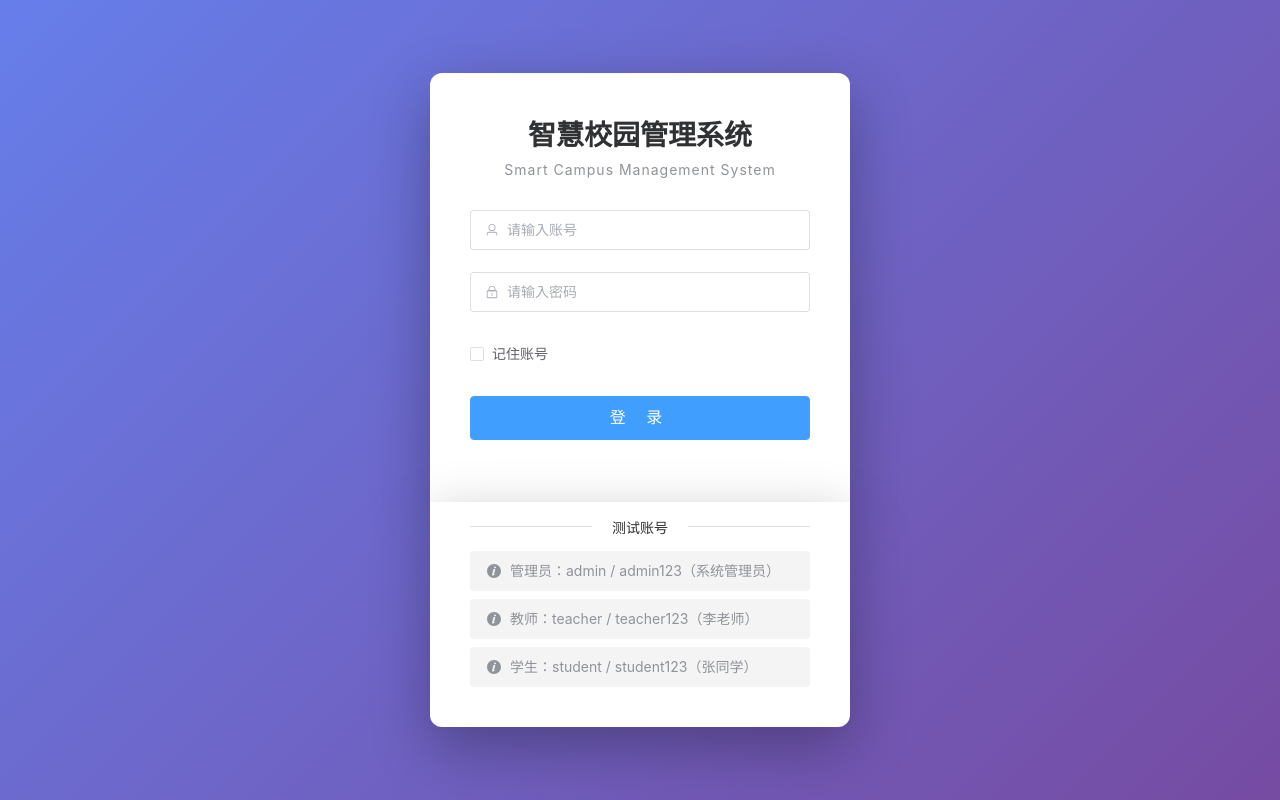
Test: Login.vue - 测试账号一键填入回归测试 › 先触发必填错误后点击测试账号：清除校验提示 + 可直接回车登录 › 先触发必填校验失败 -> 点击测试账号填入 -> 校验通过 + 直接回车登录成功
Click the button with class "login-btn": x=640, y=418 [470,396,810,440]
Wait 100 ms
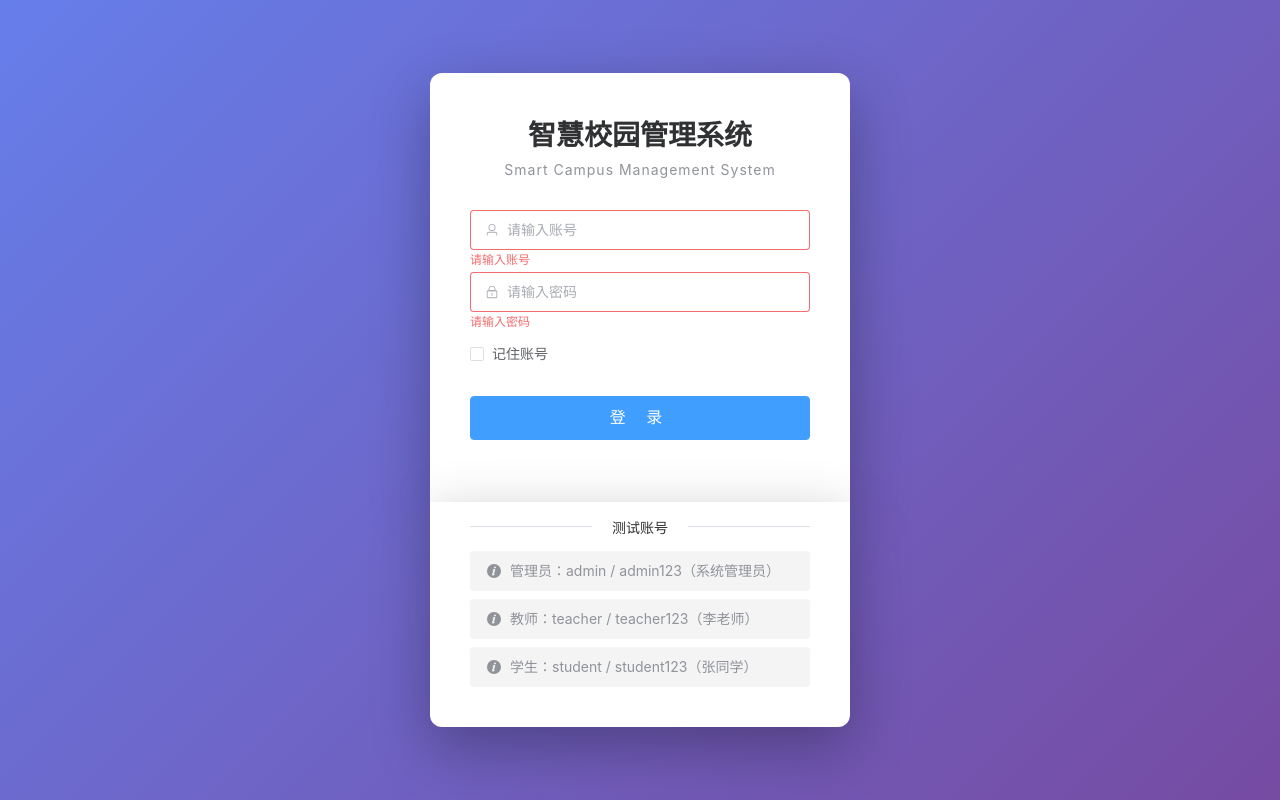
Expected: the element with class "login-card" is shown, [430,73,850,502]
Click the message "管理员：admin / admin123（系统管理员）": x=640, y=571 [470,551,810,591]
Wait 100 ms
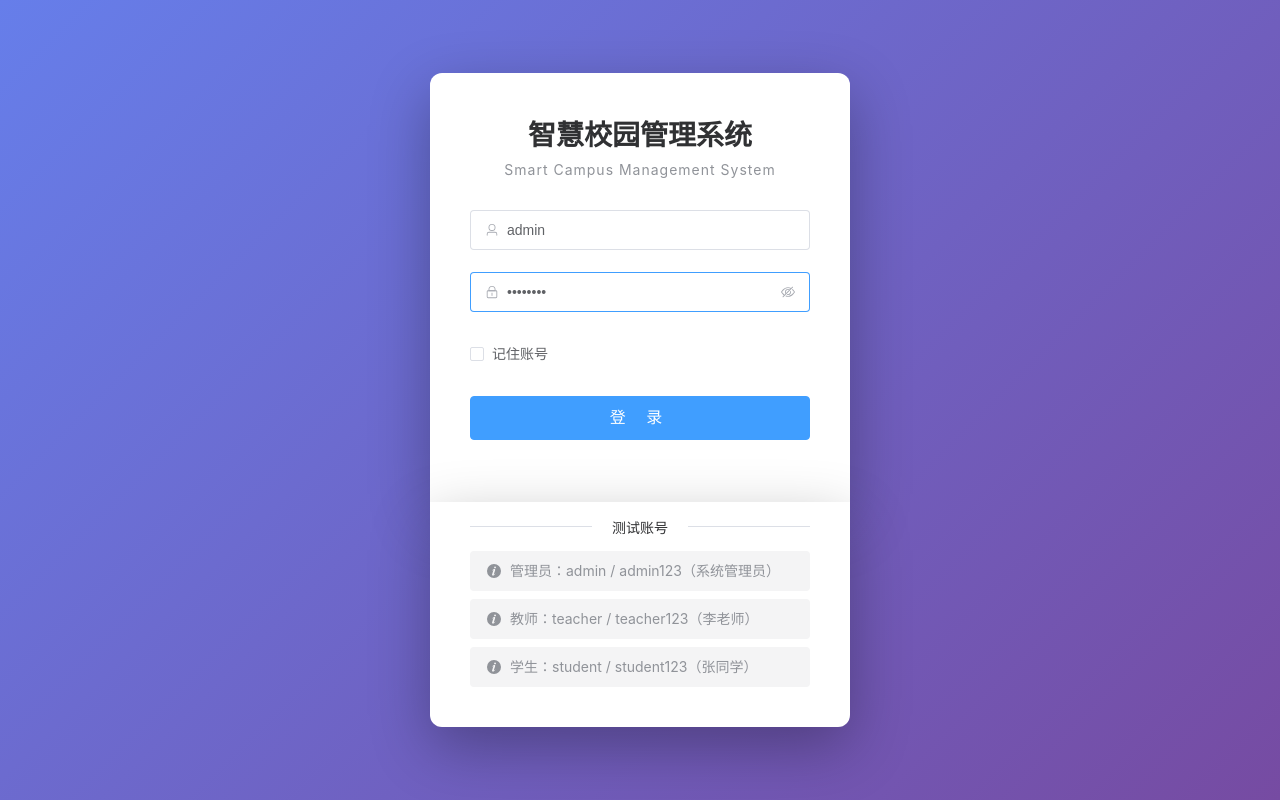
Result: the field holds "admin" at [507,211,795,249]
Result: the password field holds "admin123"
Press Enter in the password field, box [507,273,773,311]
Wait 600 ms
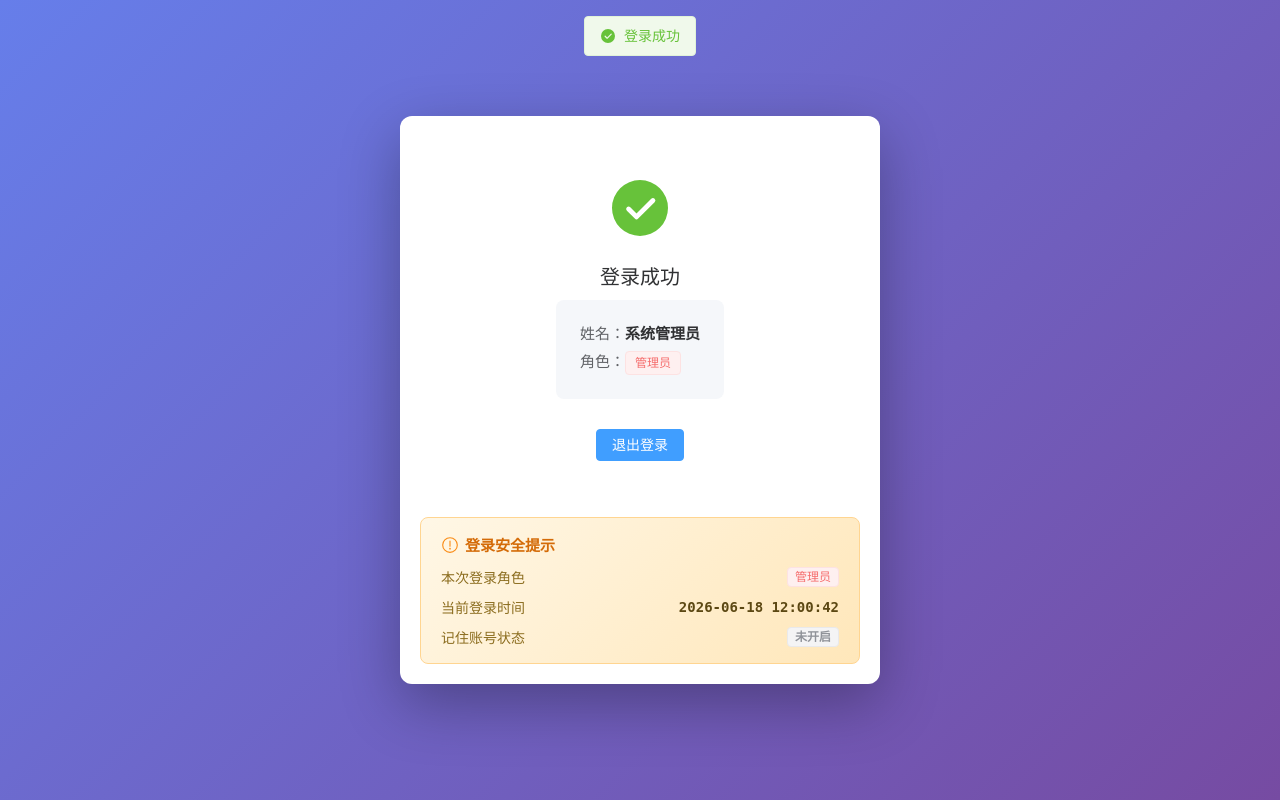
Expected: the text "系统管理员" is shown, [625,324,700,343]
Result: the element that starts with "登录成功" is shown at [400,116,880,684]
